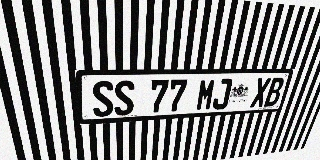7: (167, 79, 188, 113), (149, 80, 169, 114)
B: (264, 77, 285, 107)
J: (212, 78, 233, 110)
M: (195, 79, 217, 111)
S: (91, 81, 114, 117), (114, 80, 134, 116)
X: (250, 78, 271, 108)
